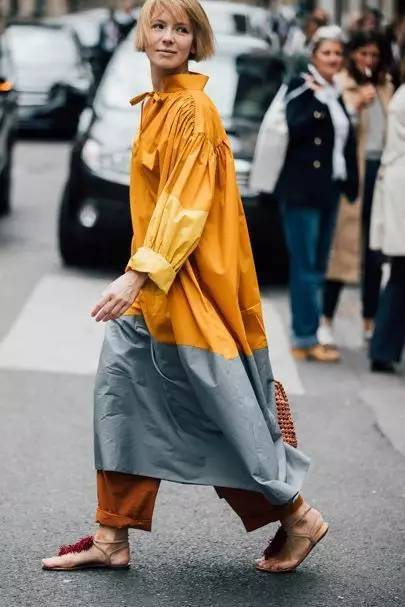no_mask: (128, 1, 217, 72), (307, 25, 351, 81), (345, 30, 389, 81)
